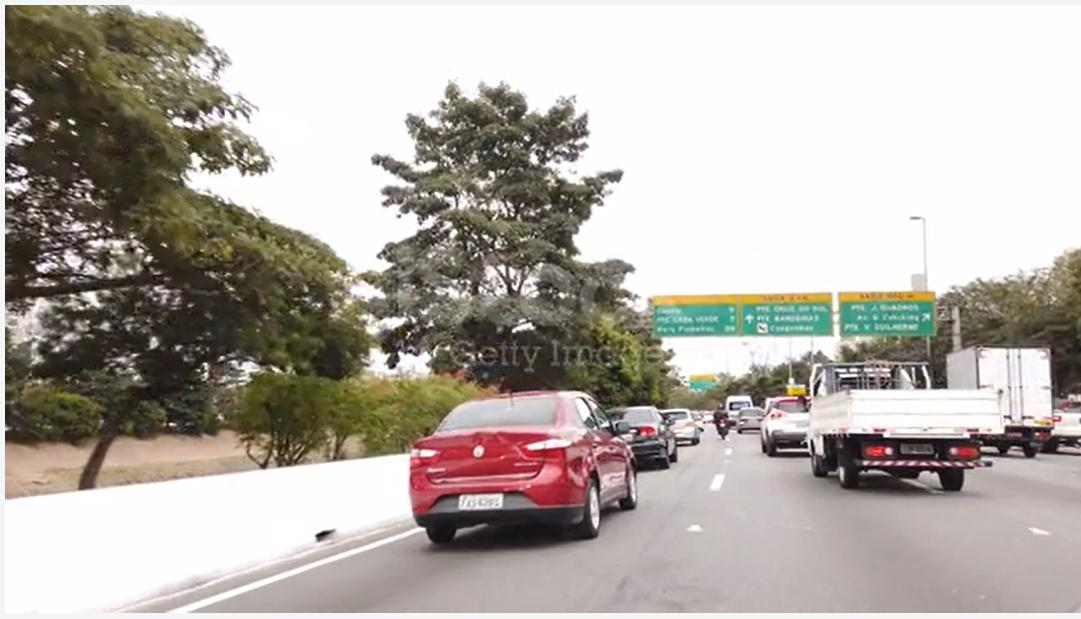car: (371, 363, 652, 566), (602, 401, 691, 480), (747, 389, 828, 465)
truck: (781, 351, 1031, 526), (949, 333, 1065, 458)
